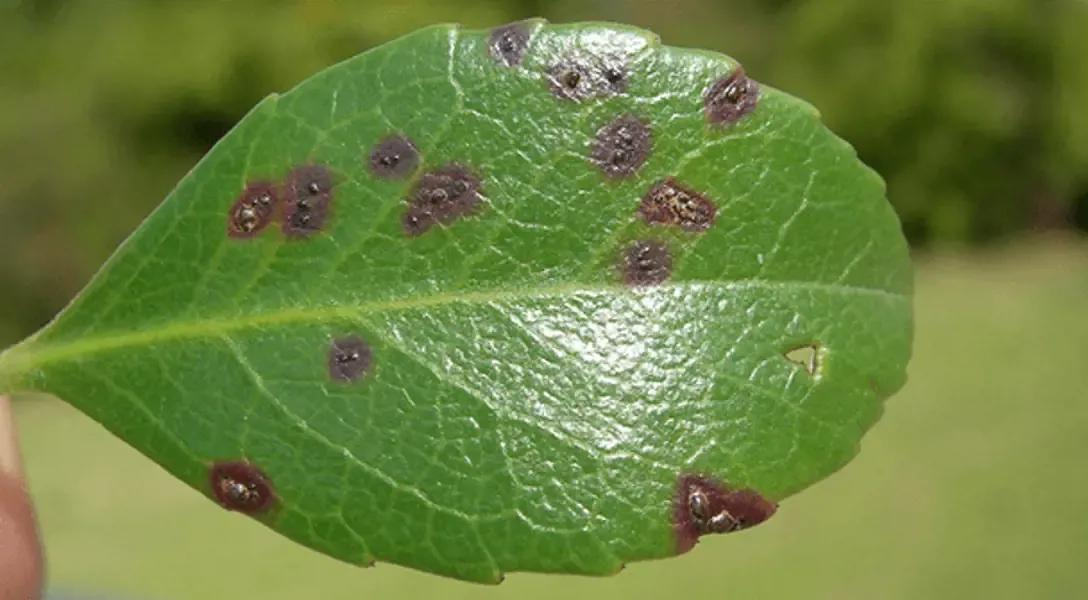black-spot: (212, 126, 489, 401), (575, 97, 747, 299)
